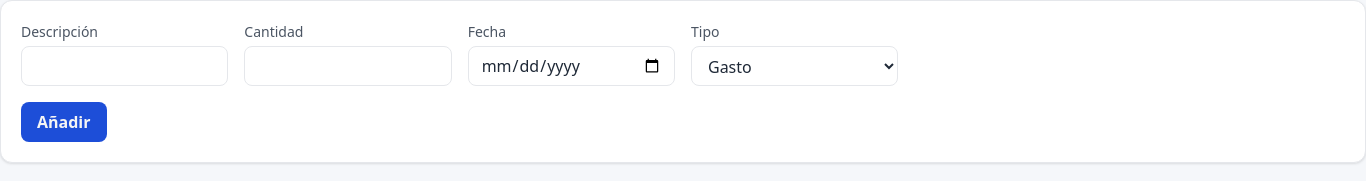
Test case: TransactionForm › envía el movimiento cuando los datos son válidos
In the field labelled "Descripción": (125, 66) [21,46,228,86], type "Alquiler"
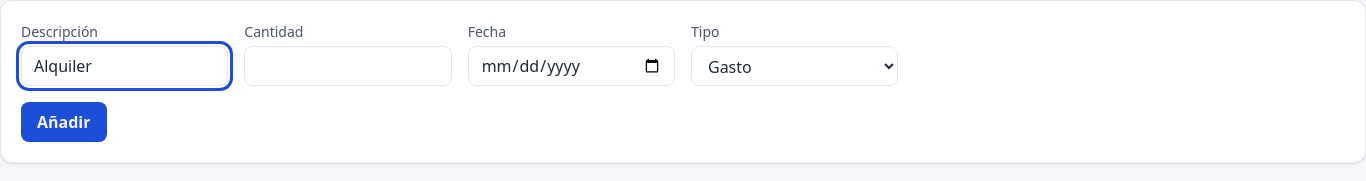
In the date field labelled "Fecha": (571, 66) [468,46,675,86], type "2026-10-10"
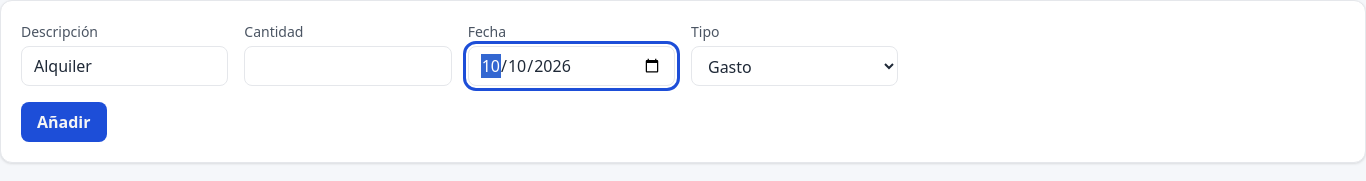
In the number field labelled "Cantidad": (348, 66) [244,46,452,86], type "2000"
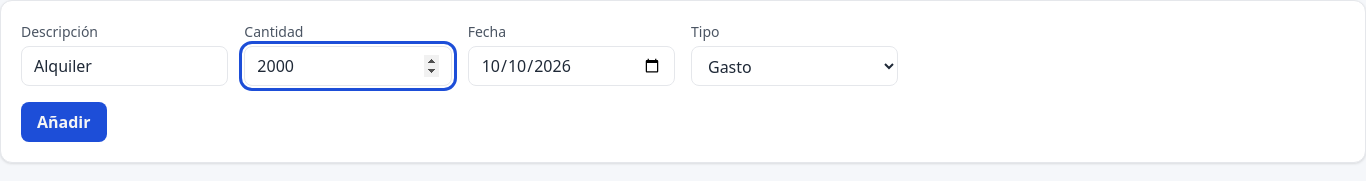
Select "Gasto" in the dropdown labelled "Tipo": (795, 66) [691,46,898,86]
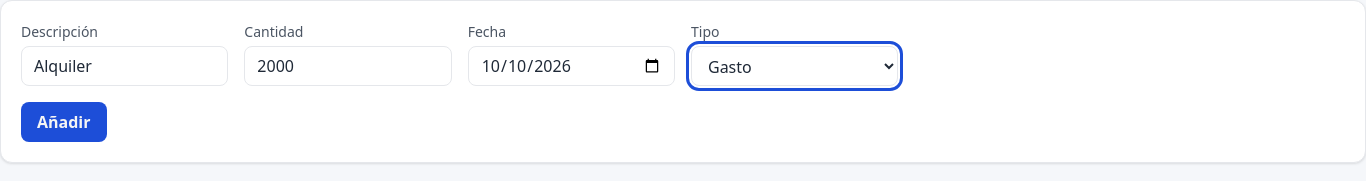
Click the button "Añadir": (64, 122) [21,102,106,142]
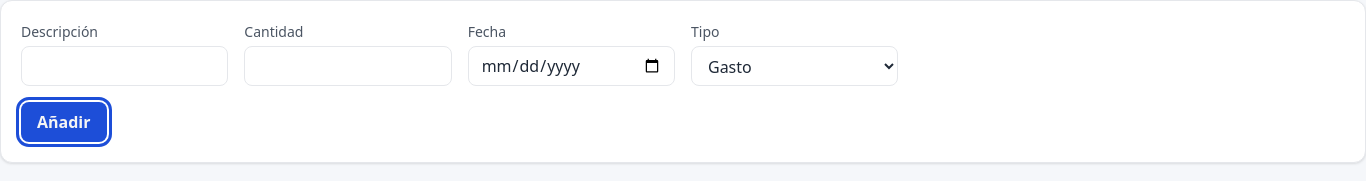
expect the field labelled "Descripción" is empty: met, box [21,46,228,86]
